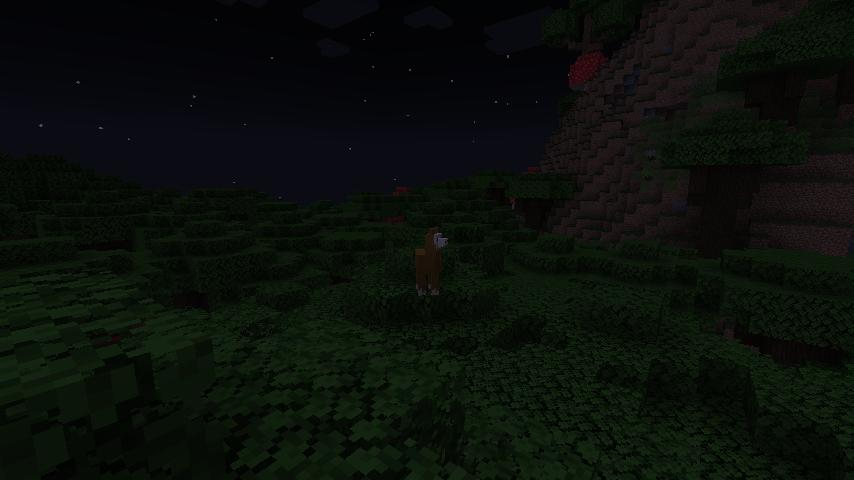llama: (412, 228, 453, 299)
